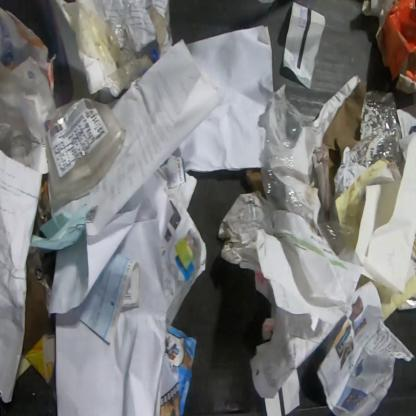cardboard: (374, 0, 416, 95)
rigid_plastic: (45, 97, 127, 205)
soft_plastic: (261, 84, 317, 228), (70, 0, 154, 91), (348, 90, 404, 178), (318, 188, 366, 255)
